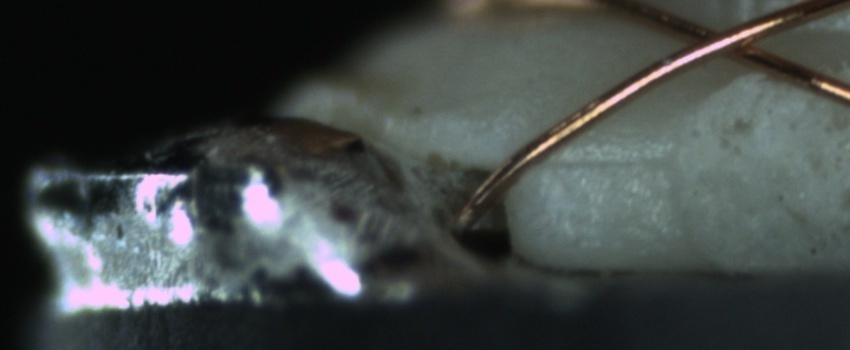CL: (665, 14, 789, 69)
DL: (536, 130, 673, 189)
